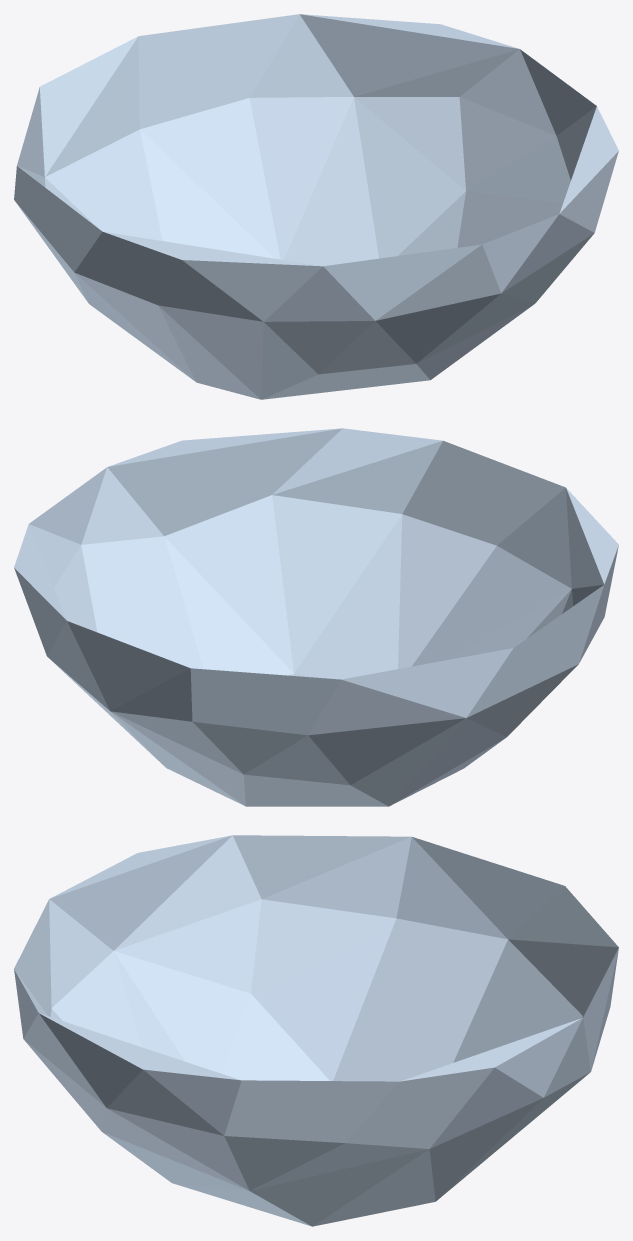
The model's file is bowl.fbx.
3 views of the same model, one above another, from view 1: azimuth 30°, elevation 25°; view 2: azimuth 150°, elevation 25°; view 3: azimuth 270°, elevation 25° (orthographic). The views are drawn at different scales.
Visible parts, largest first — view 1: Circle; view 2: Circle; view 3: Circle.
Boxes of the visible parts, <box> form: Circle: <box>14,14,618,399</box>; Circle: <box>14,428,618,806</box>; Circle: <box>14,835,618,1226</box>.
Size of the model in its own units: 320 by 122 by 330.
